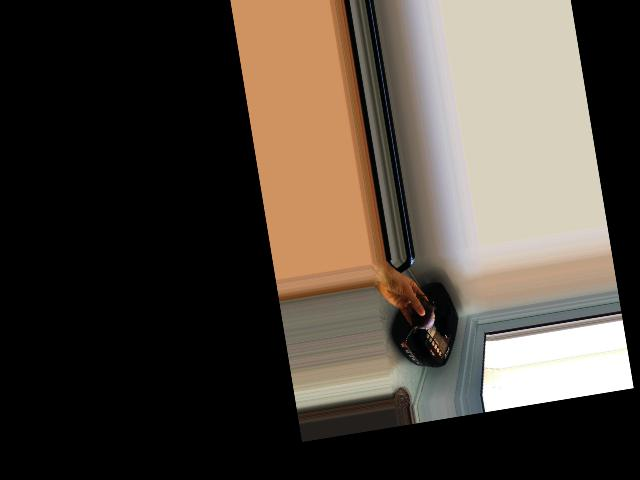beet: (397, 293, 440, 343)
